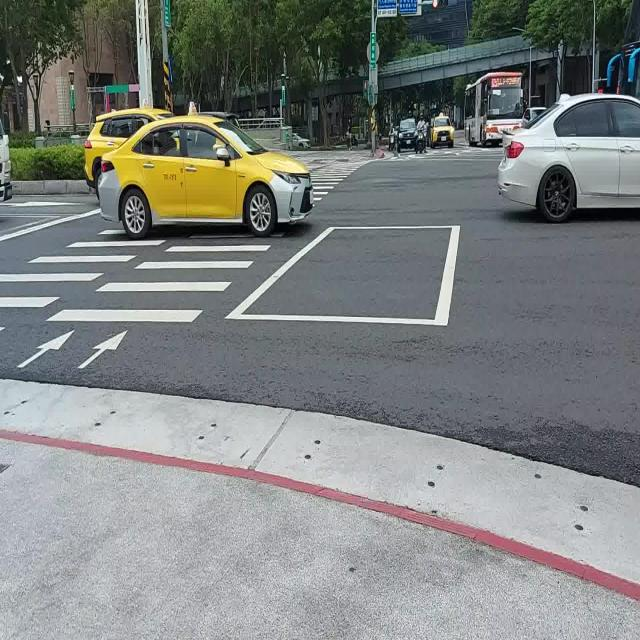bus: (465, 71, 522, 147)
car: (100, 116, 312, 240), (498, 93, 640, 222), (84, 107, 169, 196), (430, 116, 454, 149), (396, 118, 416, 151)
crosswalk: (0, 229, 275, 323), (310, 167, 351, 216)
motocycle: (415, 120, 426, 152), (389, 124, 395, 150)
pedestrian: (346, 120, 353, 152)
trunk: (0, 118, 12, 199)
